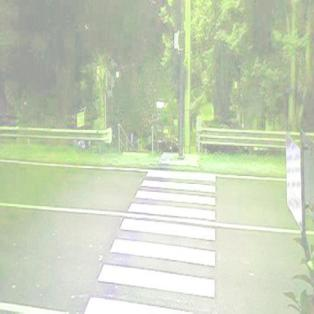Paso de Cebra: (104, 214, 216, 272), (137, 164, 218, 194)
